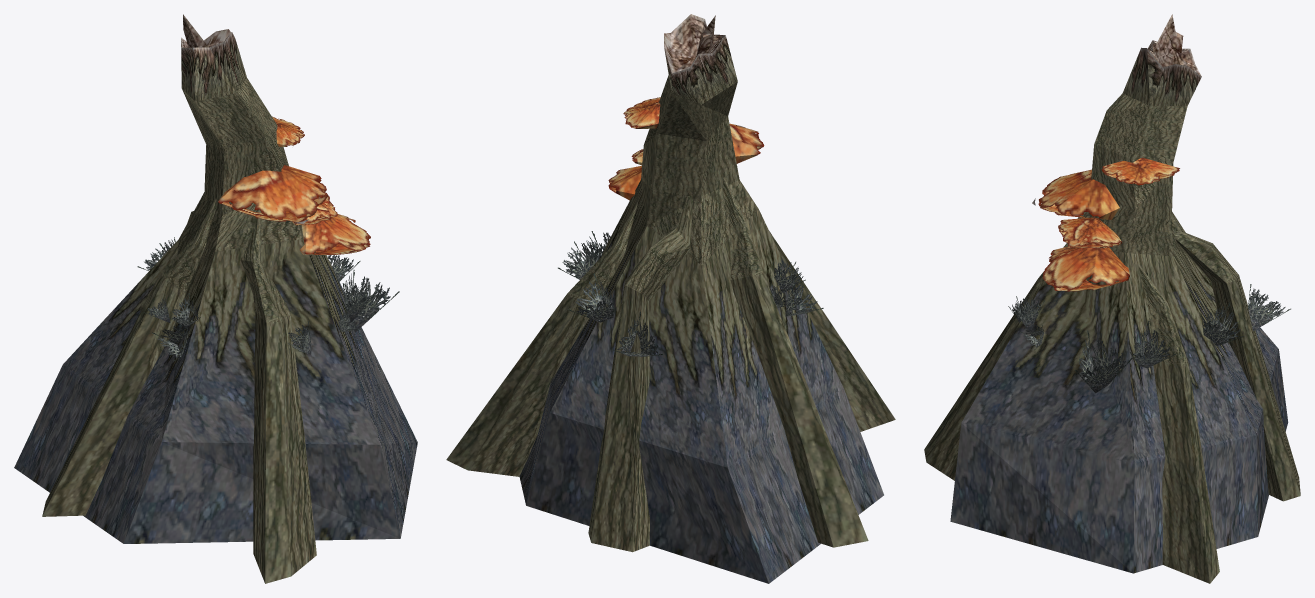
File: C4SNTREESTUMPA.obj
3 renders of one model, left to right at view 1: azimuth 30°, elevation 25°; view 2: azimuth 150°, elevation 25°; view 3: azimuth 270°, elevation 25°, orthographic. The views are drawn at different scales.
Parts seen in each view (by area): view 1: Node 0; view 2: Node 0; view 3: Node 0.
Boxes of the visible parts, x1,y1,x2,y2 form: Node 0: (14,14,417,583); Node 0: (446,14,895,583); Node 0: (924,14,1300,583).
Bounding box in the file's own units: 7.86 × 9.3 × 6.89.
1 material, 1 textured.
